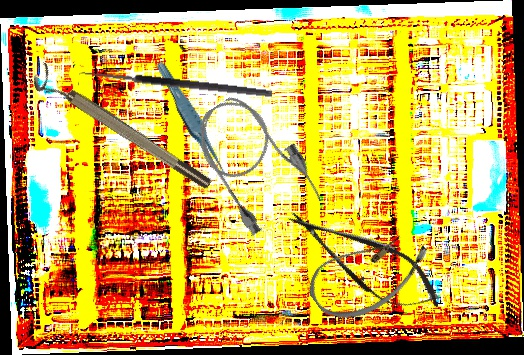Cannula: (181, 81, 329, 243), (299, 209, 438, 336)
Fixation Ring: (28, 62, 215, 200)
Hook Surgical: (77, 67, 273, 108)
Micro Scissor: (275, 192, 453, 329)
Tissue Forceps: (155, 56, 229, 187)
